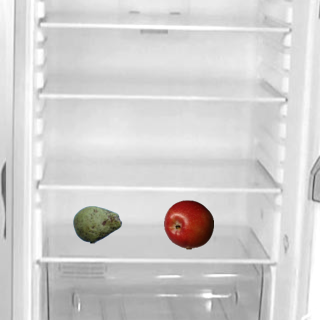Apple Braeburn: (163, 199, 213, 249)
Pear Stone: (72, 199, 122, 249)
